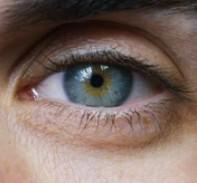eye: (64, 63, 135, 106)
